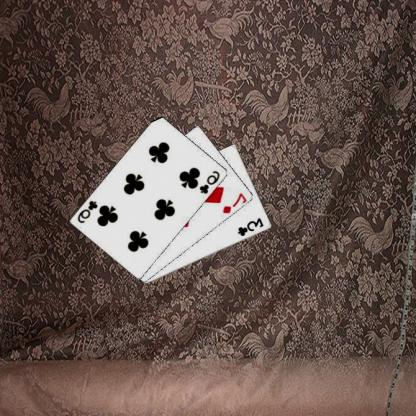3C: (237, 216, 267, 237)
6C: (199, 168, 223, 195), (77, 198, 101, 224)
7D: (222, 190, 250, 215)
